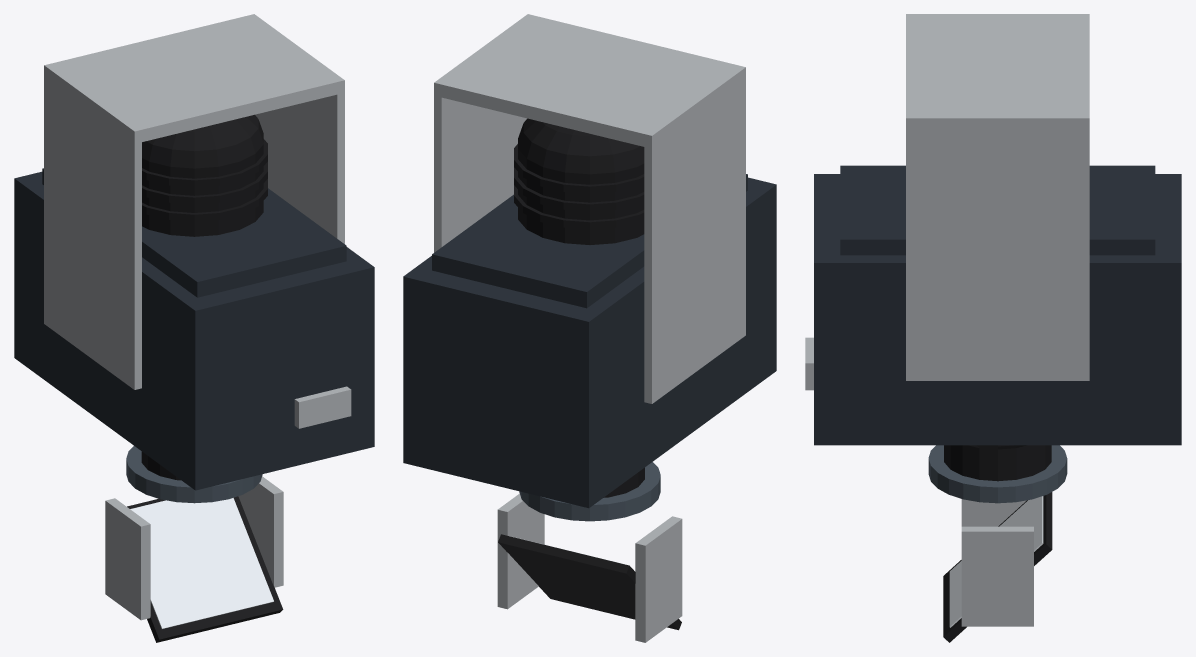
File: scanner-mirror-spot-no-clamp.glb
The picture shows the model from 3 angles, left to right: view 1: azimuth 30°, elevation 25°; view 2: azimuth 150°, elevation 25°; view 3: azimuth 270°, elevation 25°; orthographic projection. The views are drawn at different scales.
Parts seen in each view (by area): view 1: scanner-chassis, hanging-frame, optics-house, head-mirror, yoke-cheeks, lens-ring, head-mirror-back, chassis-display; view 2: scanner-chassis, hanging-frame, optics-house, yoke-cheeks, head-mirror-back, lens-ring; view 3: hanging-frame, scanner-chassis, yoke-cheeks, lens-ring, optics-nose, head-mirror, head-mirror-back.
Boxes of the visible parts, box(x1,y1,x2,y2) form: scanner-chassis: box(14, 168, 374, 490); hanging-frame: box(44, 14, 344, 389); optics-house: box(142, 114, 267, 236); head-mirror: box(130, 498, 273, 628); yoke-cheeks: box(105, 476, 283, 620); lens-ring: box(126, 446, 262, 503); head-mirror-back: box(127, 496, 283, 642); chassis-display: box(294, 386, 351, 428); scanner-chassis: box(403, 174, 776, 508); hanging-frame: box(434, 14, 745, 403); optics-house: box(514, 118, 644, 244); yoke-cheeks: box(497, 493, 682, 642); head-mirror-back: box(498, 534, 681, 630); lens-ring: box(519, 462, 660, 521); hanging-frame: box(906, 14, 1089, 380); scanner-chassis: box(814, 165, 1181, 445); yoke-cheeks: box(961, 499, 1033, 626); lens-ring: box(928, 445, 1067, 503); optics-nose: box(944, 445, 1051, 481); head-mirror: box(949, 496, 1043, 627); head-mirror-back: box(943, 492, 1052, 642).
Bounding box in the file's own units: 0.2816 × 0.6882 × 0.43.
